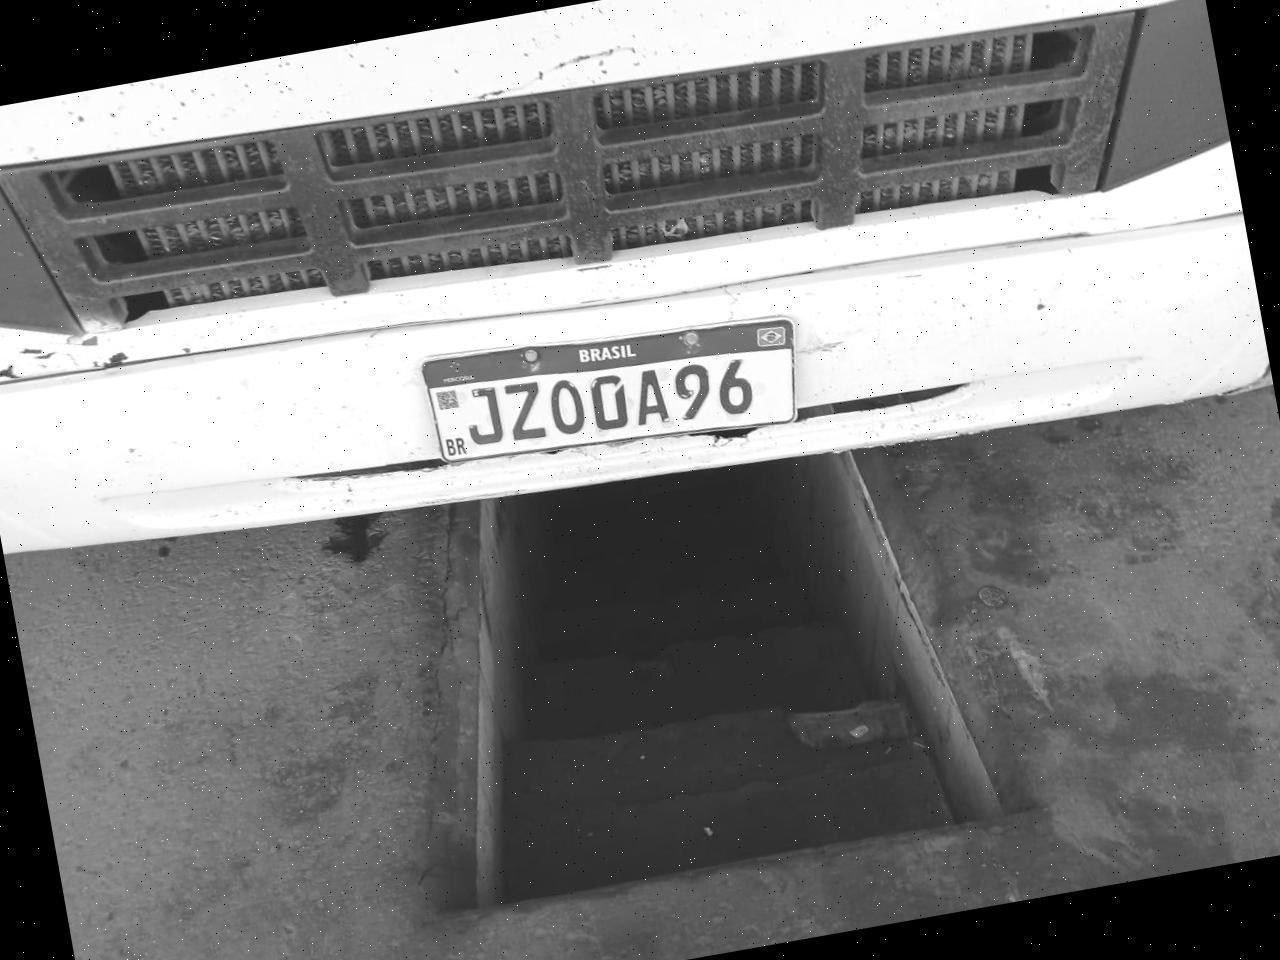placa_mercosul: (424, 318, 793, 461)
